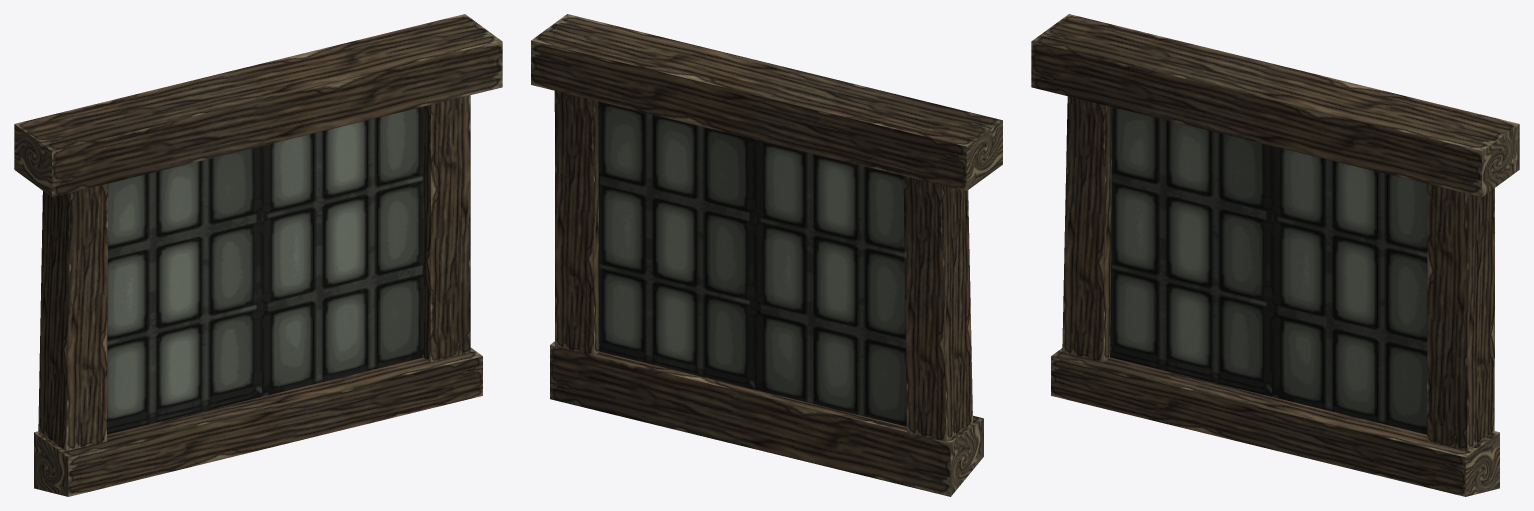
Rendered from Window_07.fbx.
The picture shows the model from 3 angles, left to right: view 1: azimuth 30°, elevation 25°; view 2: azimuth 150°, elevation 25°; view 3: azimuth 330°, elevation 25°; orthographic projection. The views are drawn at different scales.
Visible parts, largest first — view 1: Window_07; view 2: Window_07; view 3: Window_07.
Boxes of the visible parts, x1,y1,x2,y2 form: Window_07: [14, 14, 502, 496]; Window_07: [531, 14, 1002, 496]; Window_07: [1031, 14, 1519, 496].
Size of the model in its own units: 2.76 by 2.15 by 0.3979.
